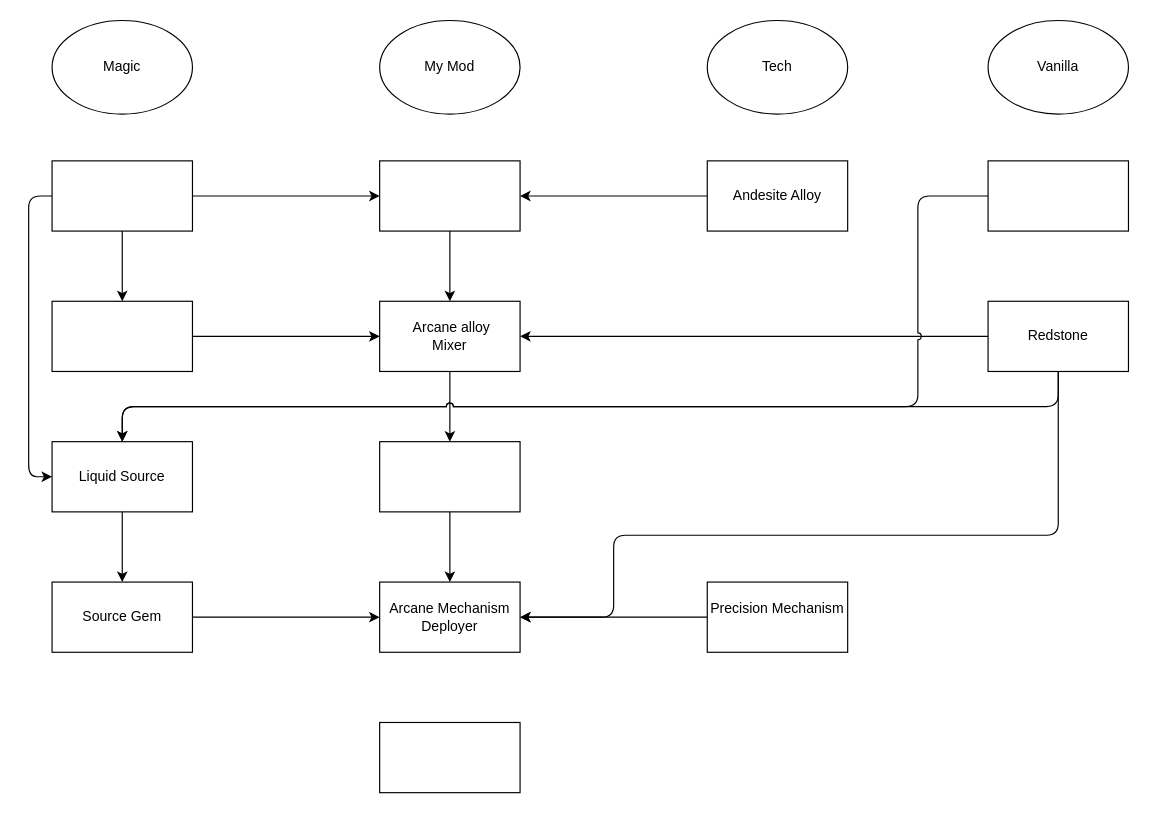
Image size: 1149x813. Some labels were removed from this diagram. The centre of each missing label's shape, as x and y in pixels:
Arcane Nugget Craft: (449,476)
Calibrated Precision Mechanism Enchanting Apparatus: (449,757)
Incomplete Arcane alloy Crafting Table: (449,195)
Iron Ingot: (1057,195)
Magebloom Fiber: (121,335)
Source berry: (121,195)
